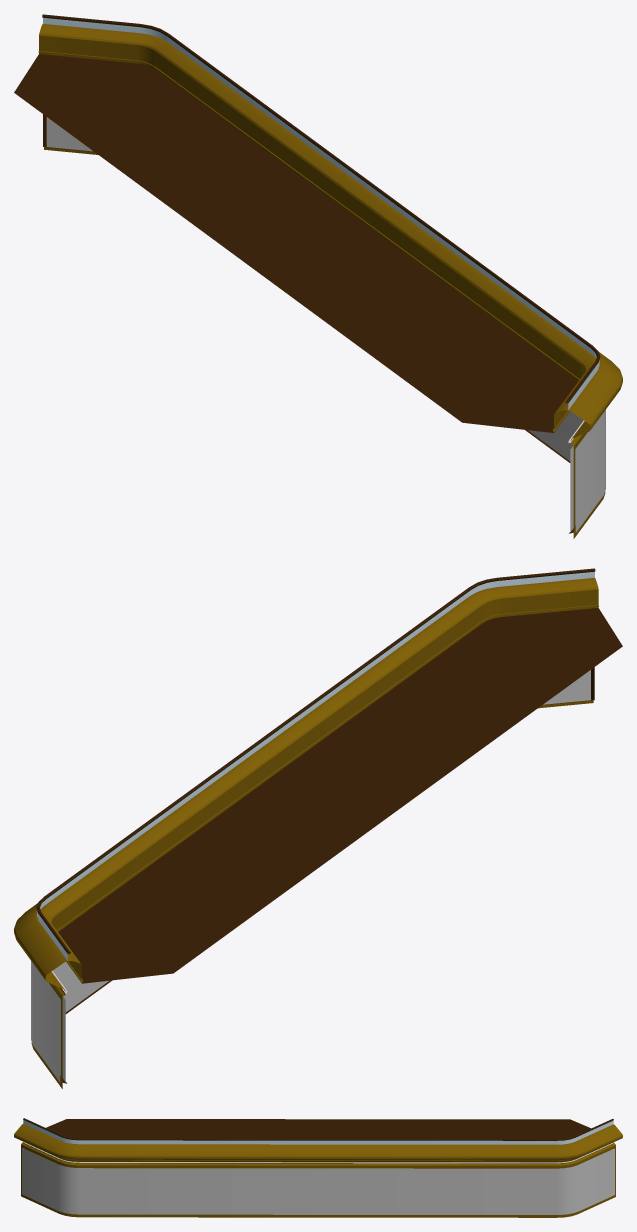
The model's file is LongPlanter.fbx.
3 renders of one model, top to bottom at view 1: azimuth 30°, elevation 25°; view 2: azimuth 150°, elevation 25°; view 3: azimuth 270°, elevation 25°, orthographic. The views are drawn at different scales.
Visible parts, largest first — view 1: Plane.005; view 2: Plane.005; view 3: Plane.005.
Part boxes in pixels (left/top/right/bottom): Plane.005: left=14, top=14, right=622, bottom=538; Plane.005: left=14, top=568, right=622, bottom=1088; Plane.005: left=14, top=1118, right=622, bottom=1217.
Size of the model in its own units: 1123 by 899 by 6441.
